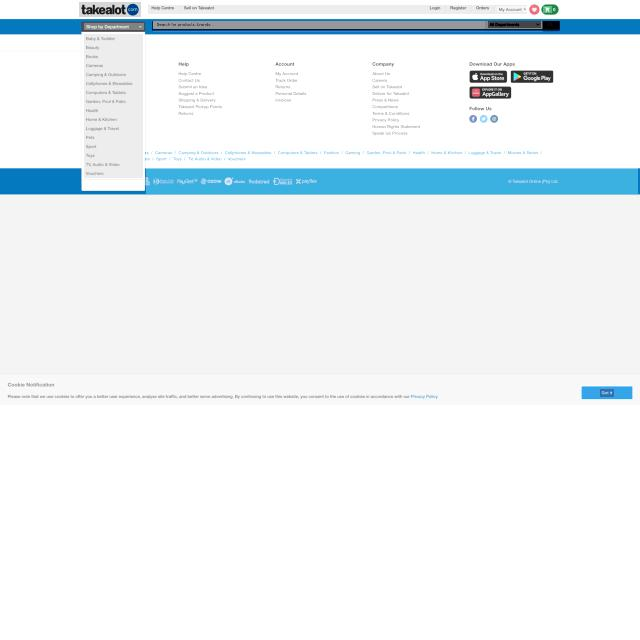CheckBox: (581, 385, 632, 400), (543, 21, 559, 31)
CheckedTextView: (152, 22, 560, 32)
alert: (488, 22, 541, 30), (84, 23, 144, 30), (497, 7, 527, 12)
badge: (146, 47, 638, 194)
breadcrumbs: (6, 378, 56, 390)
carousel: (543, 6, 552, 13), (531, 6, 538, 12)
data feed: (600, 389, 614, 397)
date picker: (79, 2, 141, 17)
decoration: (84, 34, 143, 178), (148, 6, 527, 16)
footer: (156, 23, 215, 30)
header: (0, 374, 640, 405)
